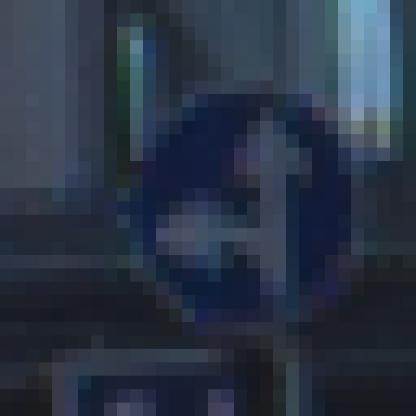Straight or Left: (79, 68, 339, 337)
